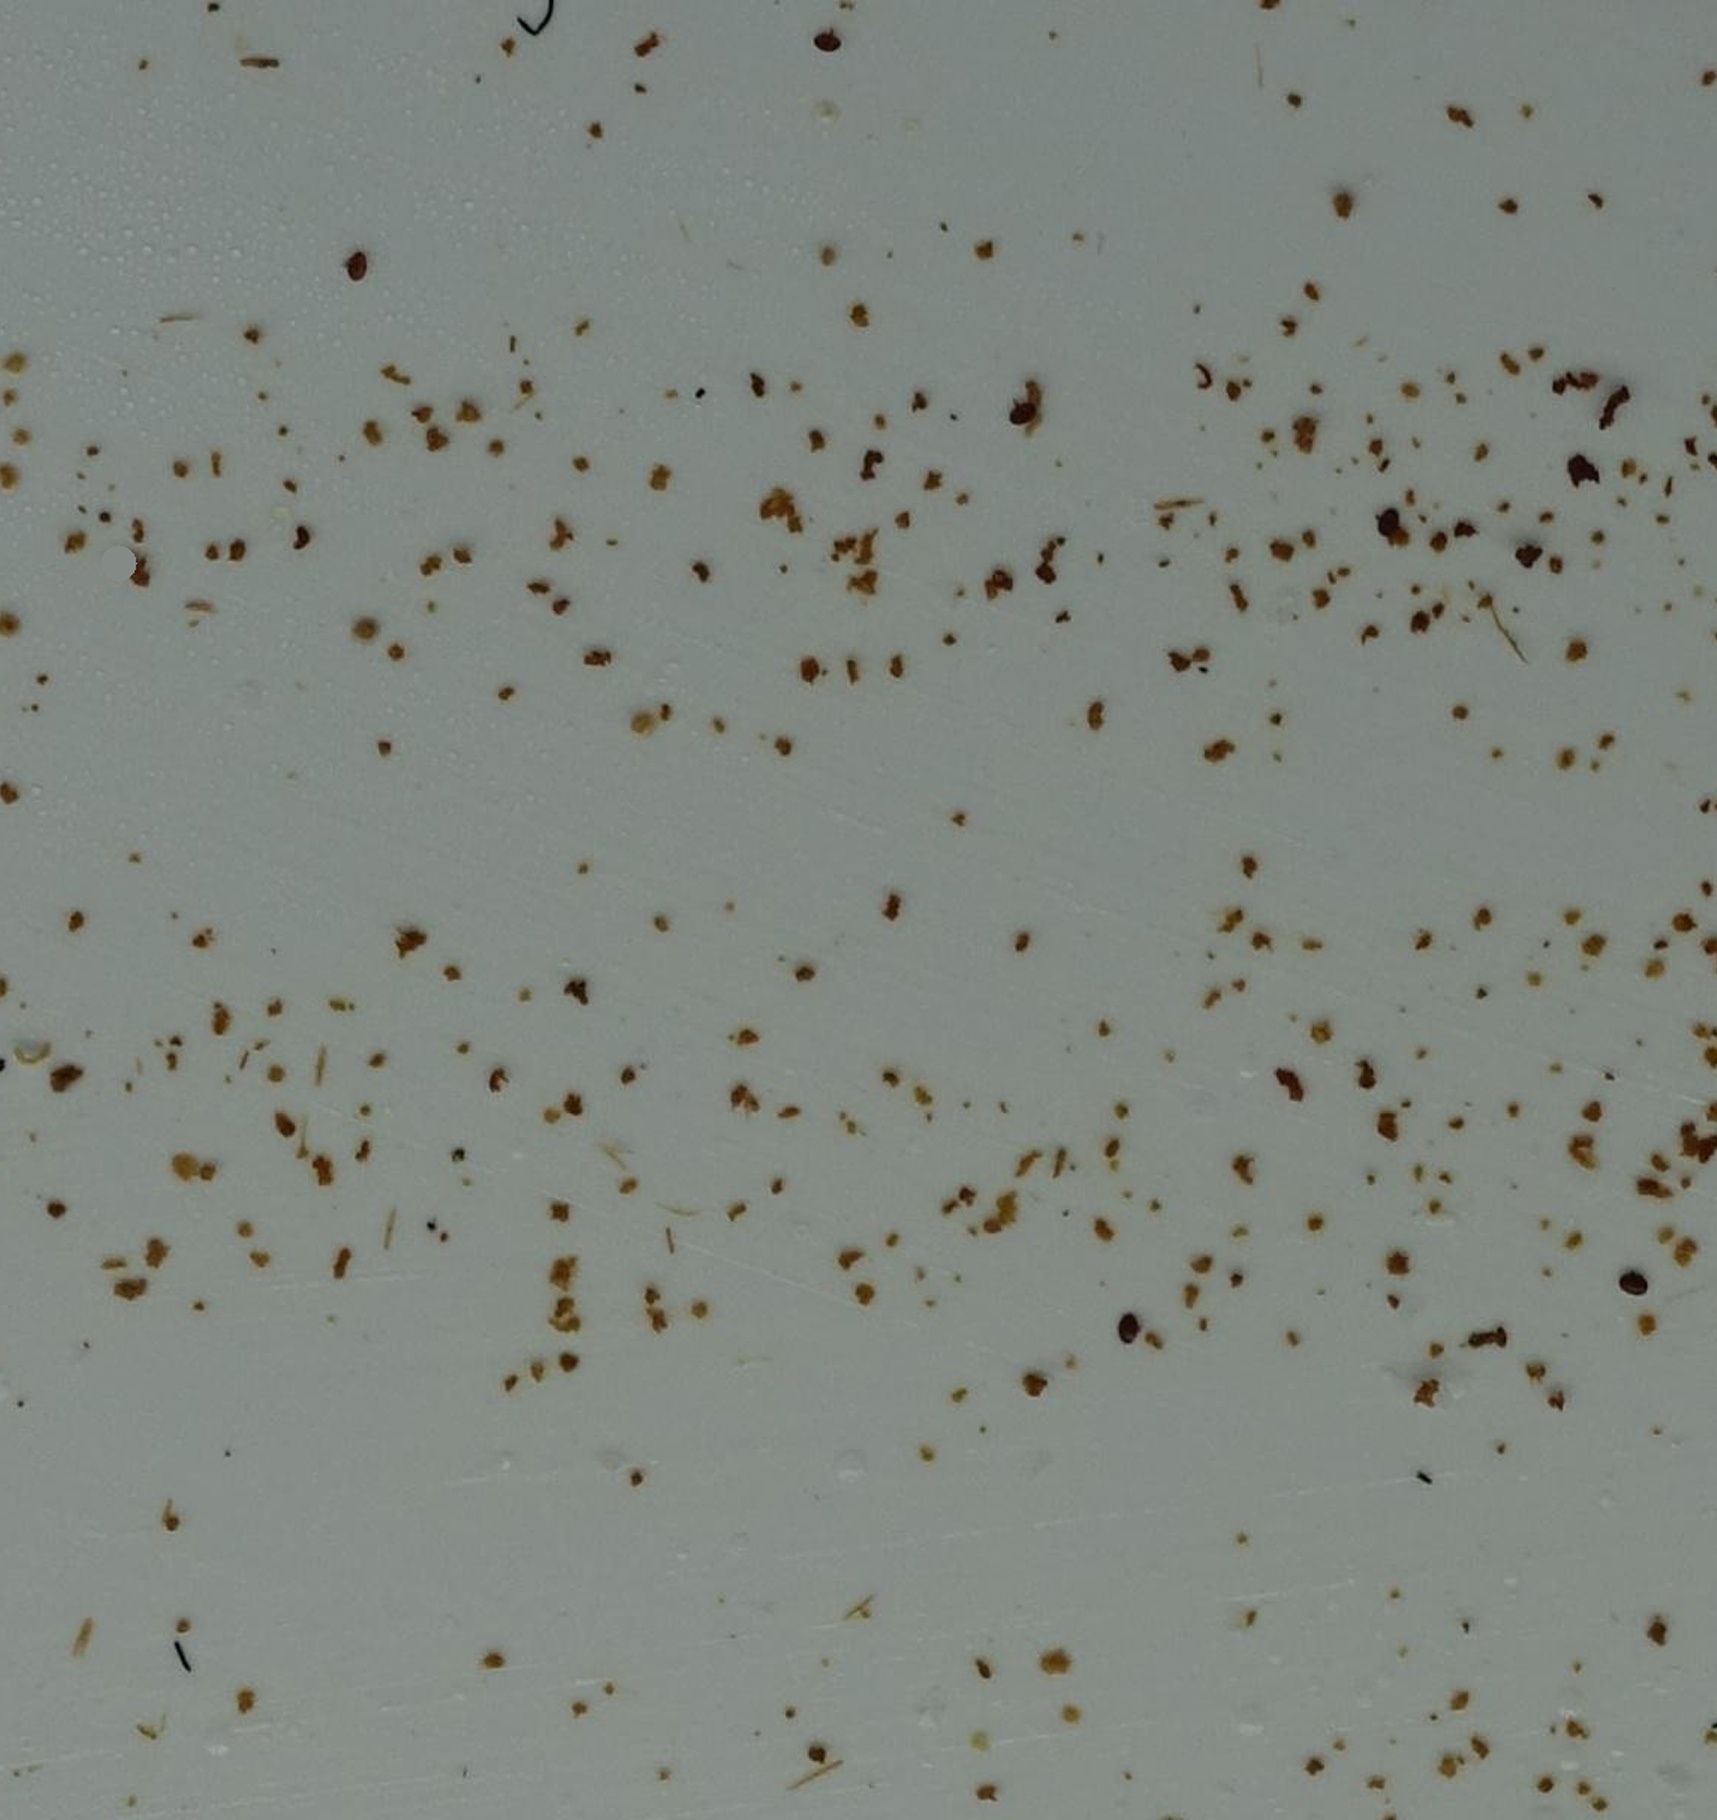Varroa: (1005, 379, 1046, 415), (808, 23, 844, 56), (339, 250, 370, 287), (1619, 1275, 1648, 1305), (1012, 402, 1041, 432), (1373, 510, 1402, 541), (1113, 1313, 1143, 1342)
